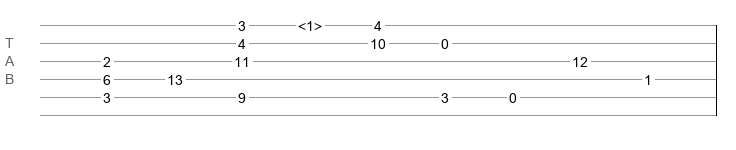0: (441, 36, 449, 46), (509, 90, 517, 100)
1: (644, 72, 652, 82)
10: (370, 36, 386, 46)
11: (234, 54, 250, 64)
12: (572, 54, 588, 64)
13: (167, 72, 183, 82)
2: (103, 54, 111, 64)
3: (103, 90, 111, 100), (238, 18, 246, 28), (441, 90, 449, 100)
4: (238, 36, 246, 46), (374, 18, 382, 28)
6: (103, 72, 111, 82)
9: (238, 90, 246, 100)
harmonic: (298, 18, 322, 28)
